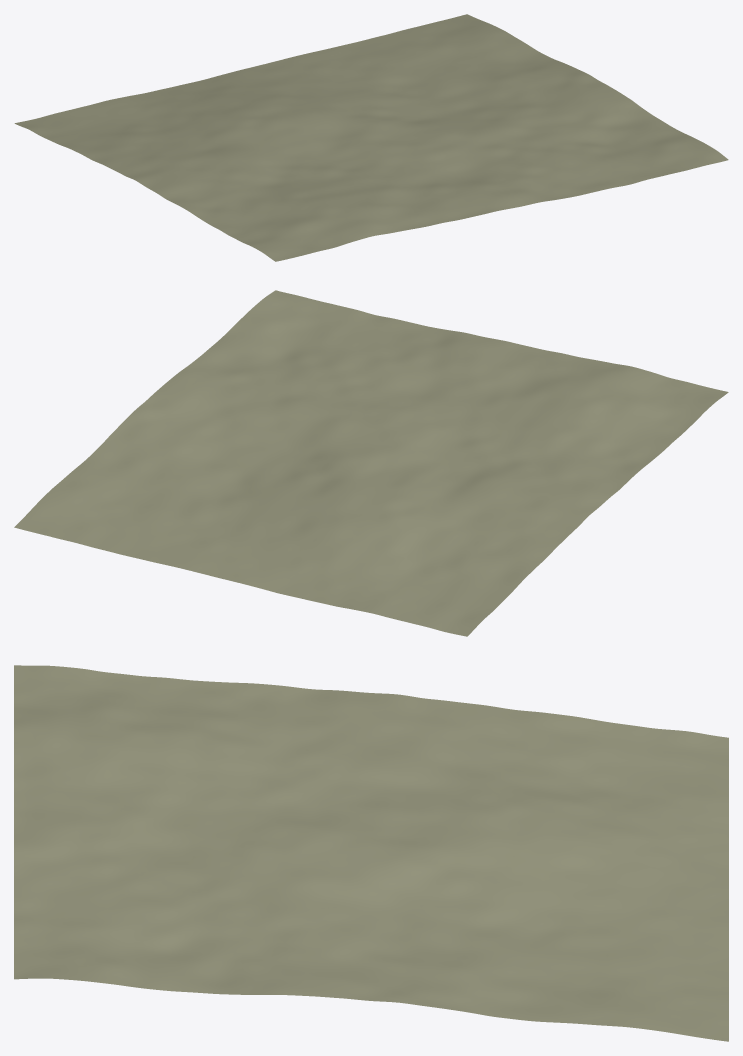
The model's file is SM_VB_Terrain_0_3.fbx.
3 views of the same model, one above another, from view 1: azimuth 30°, elevation 25°; view 2: azimuth 150°, elevation 25°; view 3: azimuth 270°, elevation 25° (orthographic). The views are drawn at different scales.
Parts seen in each view (by area): view 1: SM_VB_Terrain_0_3; view 2: SM_VB_Terrain_0_3; view 3: SM_VB_Terrain_0_3.
Boxes of the visible parts, bbox=[...] form: SM_VB_Terrain_0_3: bbox=[14, 14, 728, 261]; SM_VB_Terrain_0_3: bbox=[14, 290, 728, 636]; SM_VB_Terrain_0_3: bbox=[14, 665, 728, 1041].
Bounding box in the file's own units: 400 × 48.81 × 400.
